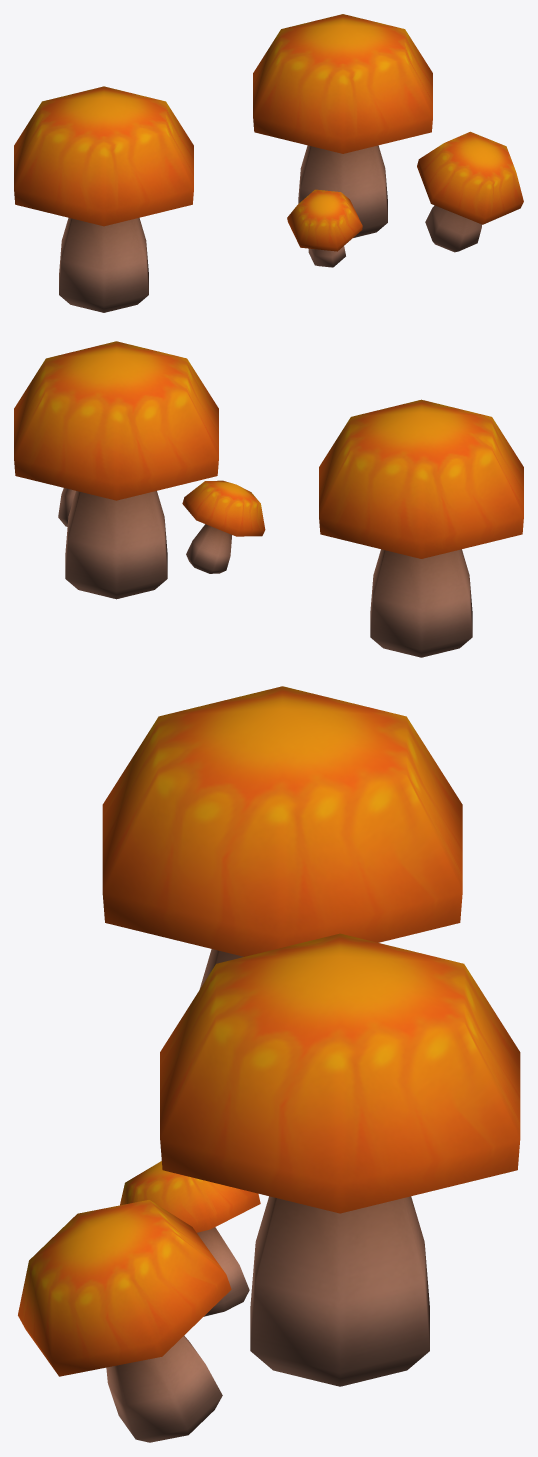
The model's file is Mushroom_05.FBX.
The picture shows the model from 3 angles, top to bottom: view 1: azimuth 30°, elevation 25°; view 2: azimuth 150°, elevation 25°; view 3: azimuth 270°, elevation 25°; orthographic projection. The views are drawn at different scales.
Parts seen in each view (by area): view 1: Mushroom 5_group, Mushroom 5_single; view 2: Mushroom 5_group, Mushroom 5_single; view 3: Mushroom 5_group, Mushroom 5_single.
Part boxes in pixels (x1,y1,x2,y2): Mushroom 5_group: (253,14,523,267); Mushroom 5_single: (14,86,193,312); Mushroom 5_group: (14,341,265,599); Mushroom 5_single: (319,399,523,657); Mushroom 5_group: (18,933,520,1442); Mushroom 5_single: (102,686,462,989).
Size of the model in its own units: 19.31 by 8.15 by 9.05.
1 material, 1 textured.
